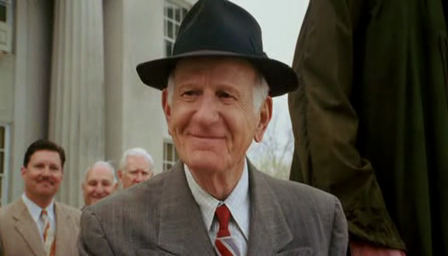cu: (1, 1, 448, 256)
face: (169, 63, 256, 171)
person: (74, 1, 350, 256)
